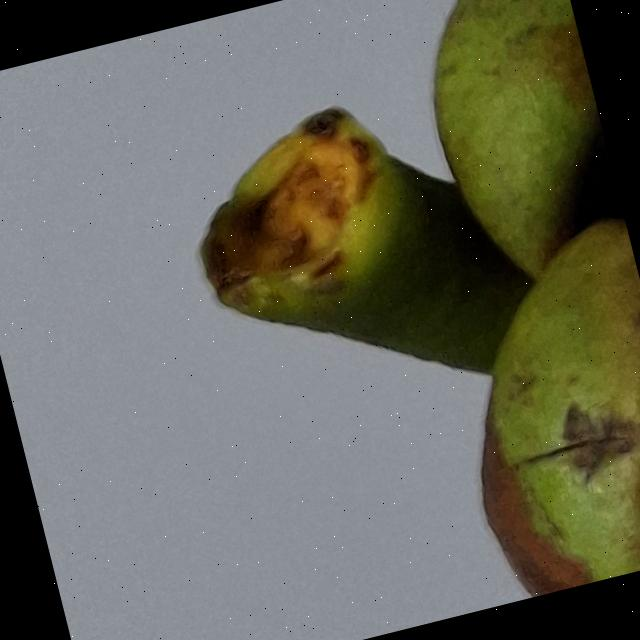mangosteen: (165, 0, 640, 640)
